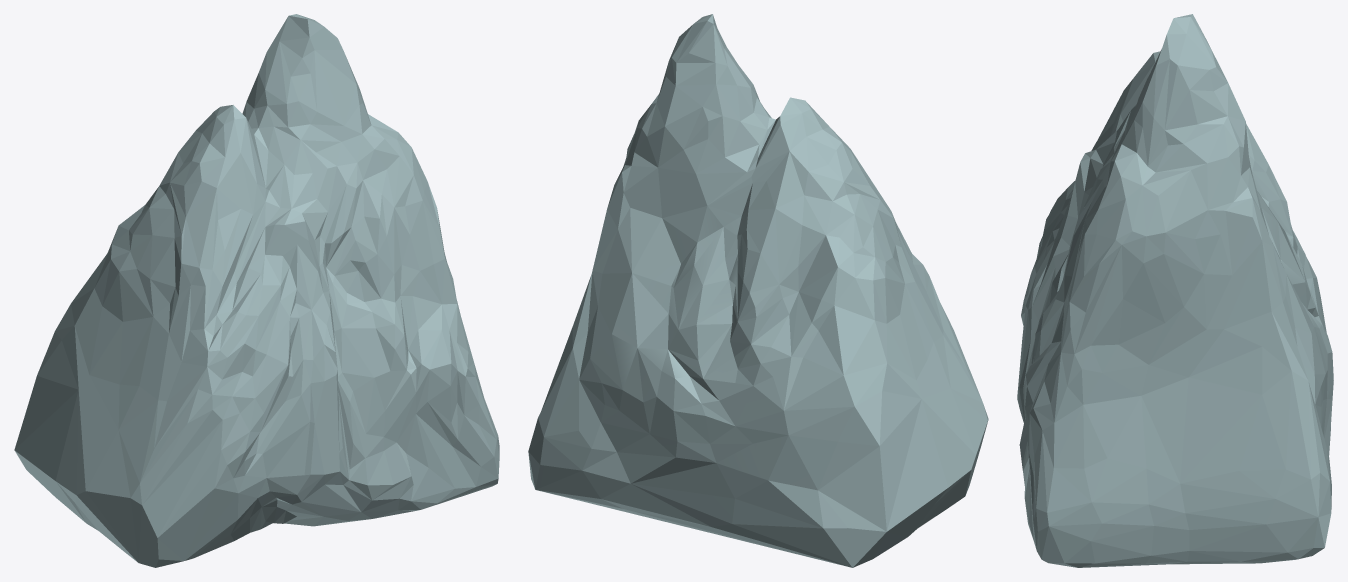
Rendered from mountain1.fbx.
The picture shows the model from 3 angles, left to right: view 1: azimuth 30°, elevation 25°; view 2: azimuth 150°, elevation 25°; view 3: azimuth 270°, elevation 25°; orthographic projection. The views are drawn at different scales.
Parts seen in each view (by area): view 1: Group59626.001; view 2: Group59626.001; view 3: Group59626.001.
Boxes of the visible parts, x1=… form: Group59626.001: x1=14, y1=14, x2=499, y2=567; Group59626.001: x1=528, y1=14, x2=988, y2=567; Group59626.001: x1=1017, y1=14, x2=1333, y2=567.
Bounding box in the file's own units: 9051 × 10716 × 6218.
